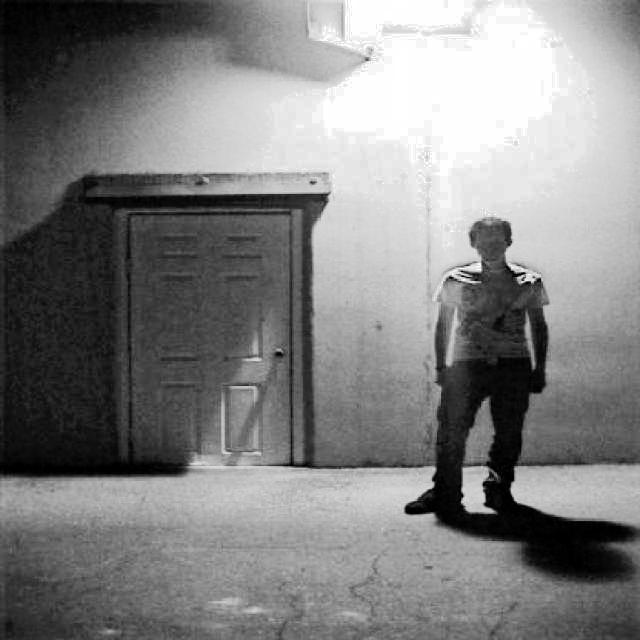Person: (393, 209, 562, 534)
